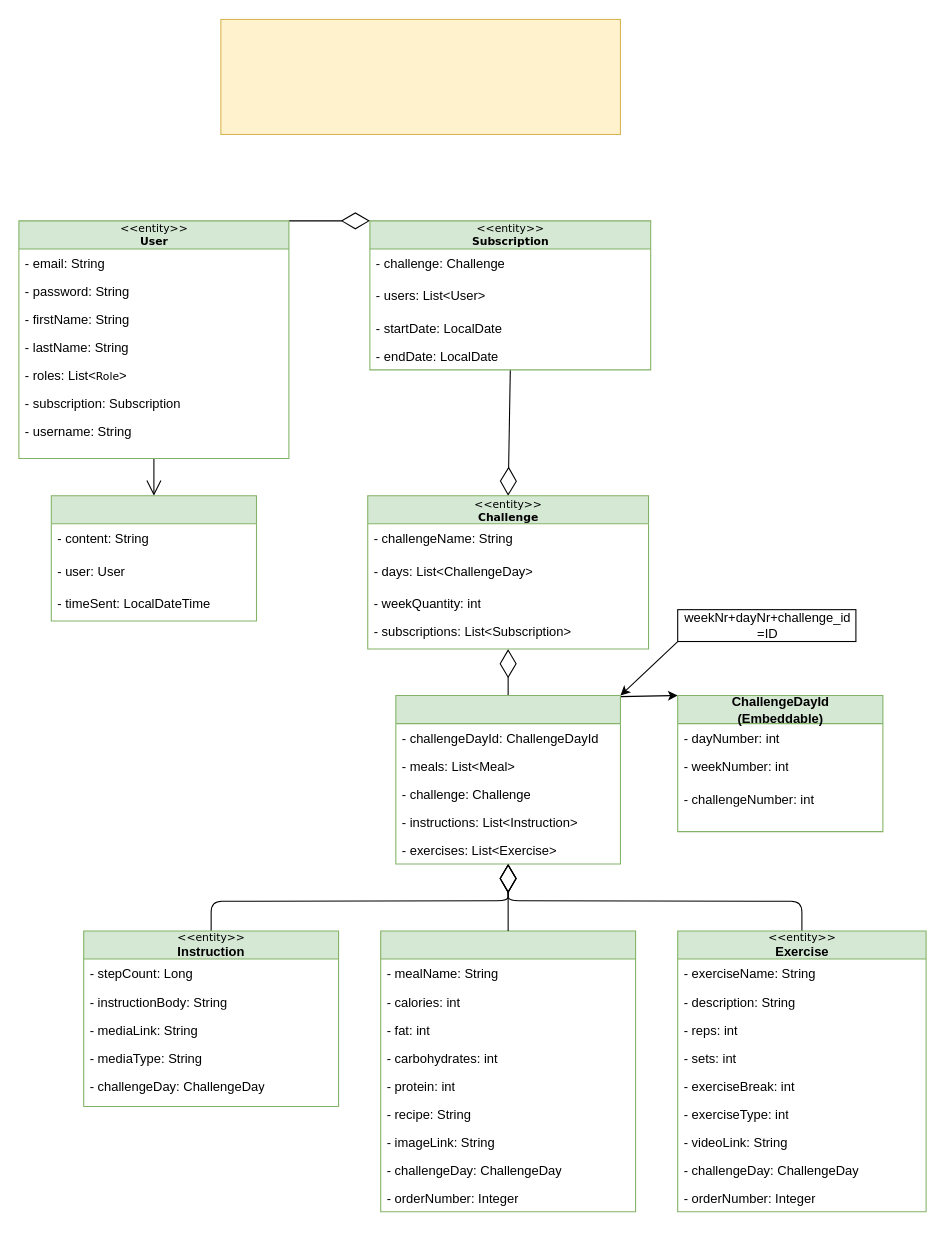
Some shapes in this 945 by 1233 pixel diagram are drawn without their labels. The box of each missing label's shape, as (x1, y1, x2, y2) in pixels:
<<entity>> ChallengeDay: (395, 694, 620, 864)
<<entity>> Meal: (380, 930, 636, 1212)
<<entity>> Message: (50, 495, 256, 621)
The New You Application Core UML Diagram: (220, 18, 620, 134)
